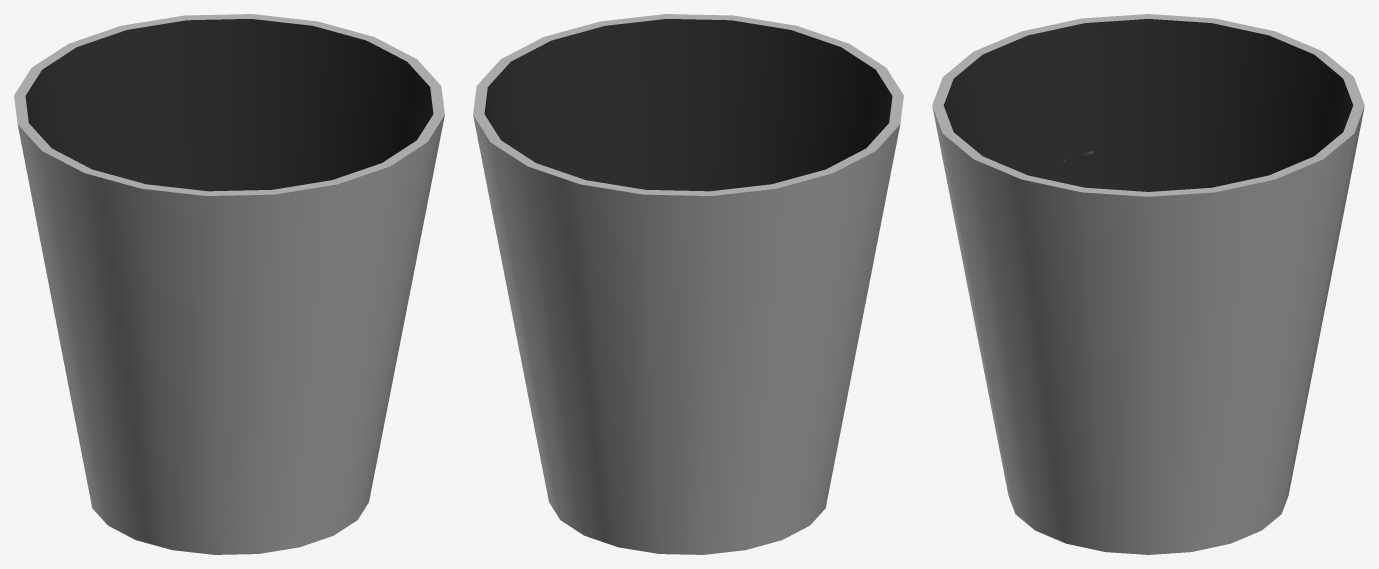
The model's file is Trashcan_Small.fbx.
3 renders of one model, left to right at view 1: azimuth 30°, elevation 25°; view 2: azimuth 150°, elevation 25°; view 3: azimuth 270°, elevation 25°, orthographic.
Parts seen in each view (by area): view 1: Trashcan_Small; view 2: Trashcan_Small; view 3: Trashcan_Small.
Boxes of the visible parts, bbox=[...] form: Trashcan_Small: bbox=[14, 14, 444, 554]; Trashcan_Small: bbox=[473, 14, 903, 554]; Trashcan_Small: bbox=[932, 14, 1364, 554].
Size of the model in its own units: 1.73 by 1.72 by 1.73.
